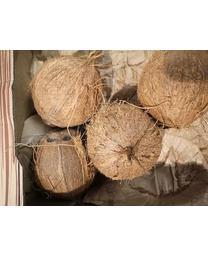coconut: (87, 100, 161, 181), (136, 51, 207, 131), (31, 51, 103, 126), (34, 127, 95, 200)
